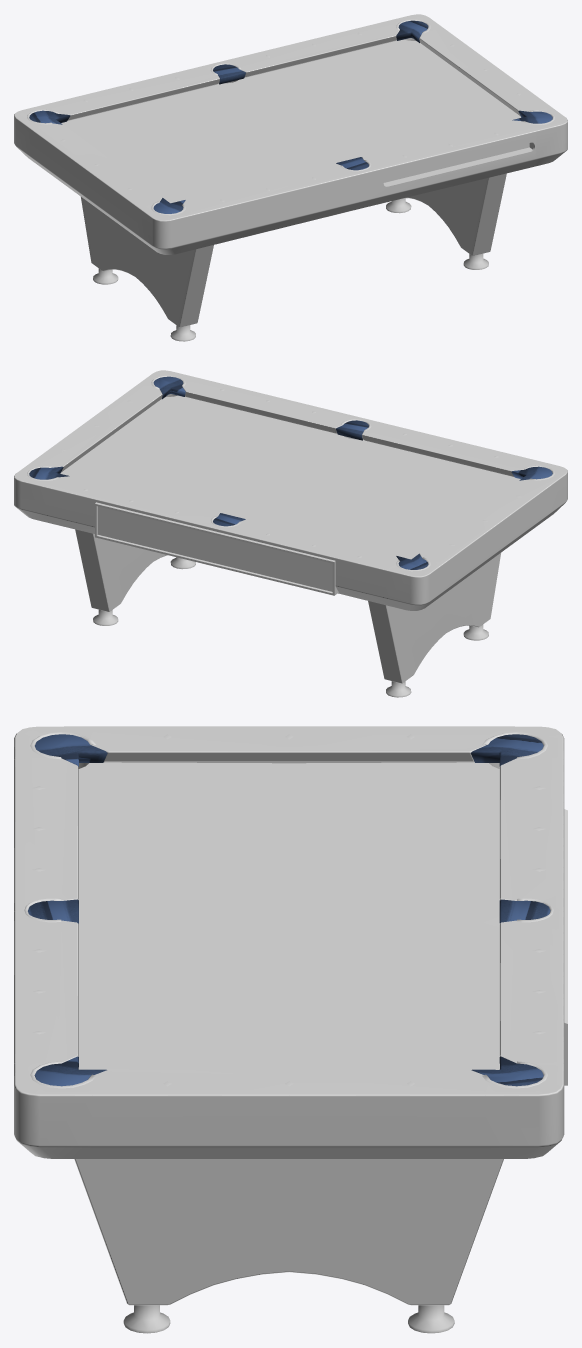
The model's file is TableV3.fbx.
The picture shows the model from 3 angles, top to bottom: view 1: azimuth 30°, elevation 25°; view 2: azimuth 150°, elevation 25°; view 3: azimuth 270°, elevation 25°; orthographic projection. The views are drawn at different scales.
Visible parts, largest first — view 1: table, .4BALL_FILL; view 2: table, scorecard, .4BALL_FILL; view 3: table, .4BALL_FILL.
Boxes of the visible parts, x1,y1,x2,y2 form: table: (14,14,567,341); .4BALL_FILL: (29,20,552,213); table: (14,370,567,697); scorecard: (98,506,332,591); .4BALL_FILL: (29,376,552,569); table: (14,726,567,1333); .4BALL_FILL: (28,734,550,1086).
Size of what is drawn, in the model's own units: 244 by 87.55 by 155.
